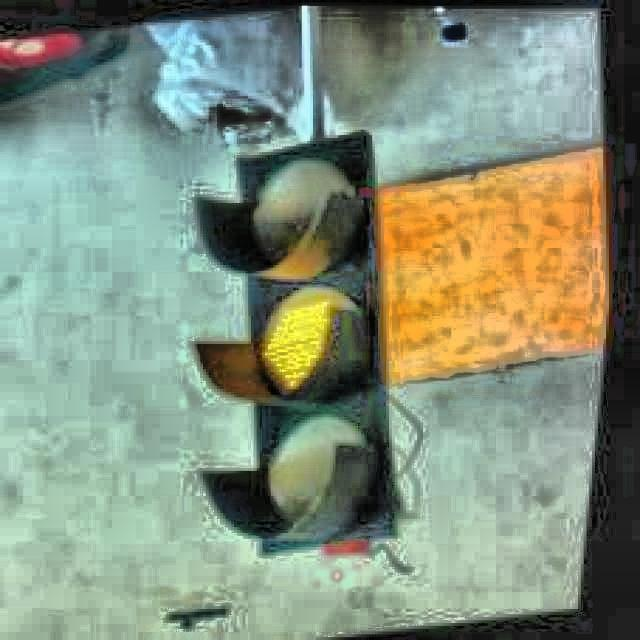yellow: (210, 140, 402, 547)
